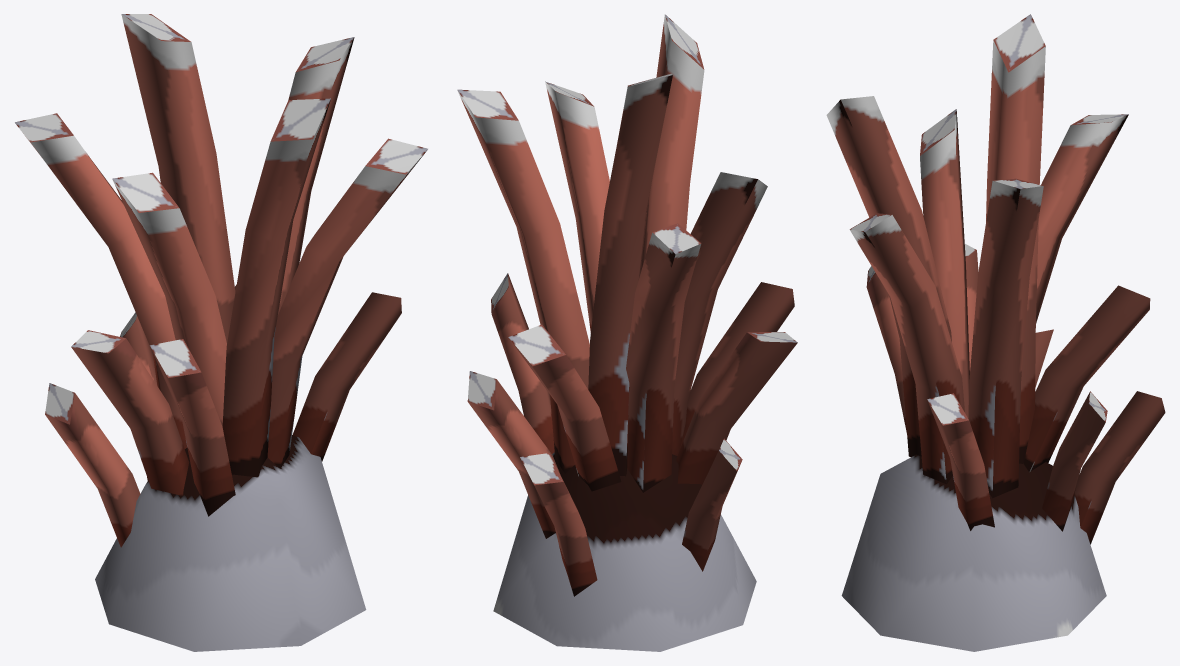
File: Tubworms 1_preview_3DS_simplified_2.glb
The picture shows the model from 3 angles, left to right: view 1: azimuth 30°, elevation 25°; view 2: azimuth 150°, elevation 25°; view 3: azimuth 270°, elevation 25°; orthographic projection. The views are drawn at different scales.
Parts seen in each view (by area): view 1: Marine Park Empire model; view 2: Marine Park Empire model; view 3: Marine Park Empire model.
Boxes of the visible parts, box(x1,y1,x2,y2) form: Marine Park Empire model: box(15, 14, 427, 651); Marine Park Empire model: box(457, 14, 797, 651); Marine Park Empire model: box(826, 14, 1165, 651).
Size of the model in its own units: 38.72 by 66.11 by 37.24.
Materials: 1 (1 with a texture image).
